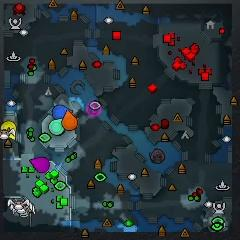Other: (87, 101, 101, 116)
p1: (52, 105, 73, 119)
p2: (49, 118, 64, 135)
p3: (30, 157, 50, 173)
p4: (1, 121, 17, 140)
p5: (63, 110, 77, 131)
